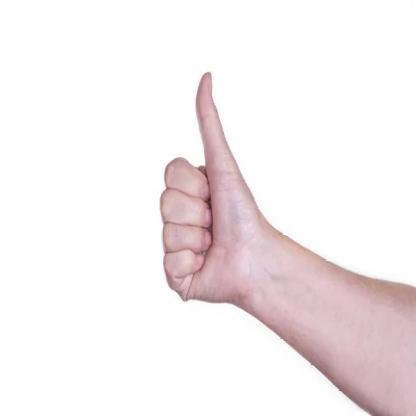thumb_up: (154, 66, 258, 308)
